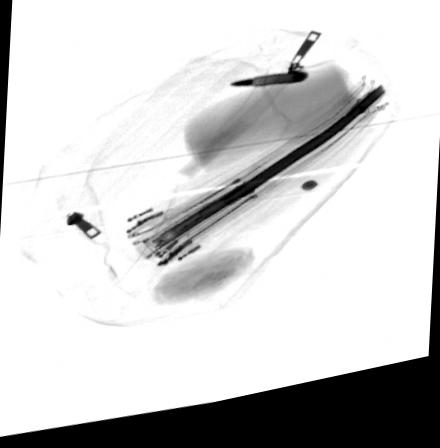Bullet: (226, 83, 308, 97)
